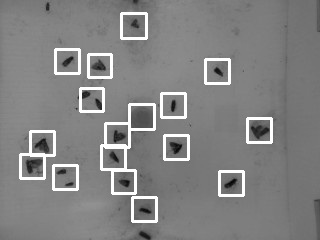insect: (248, 123, 270, 140), (25, 157, 44, 175), (33, 136, 51, 153), (167, 139, 184, 156), (90, 57, 107, 72), (112, 128, 127, 143), (60, 54, 75, 68), (223, 177, 238, 190), (93, 96, 105, 112), (212, 65, 225, 78), (76, 89, 91, 100), (129, 17, 141, 30), (108, 149, 119, 163), (168, 98, 178, 113), (137, 206, 153, 215), (117, 178, 131, 188), (138, 230, 151, 240), (55, 167, 67, 175), (44, 1, 51, 12), (63, 180, 74, 187)
